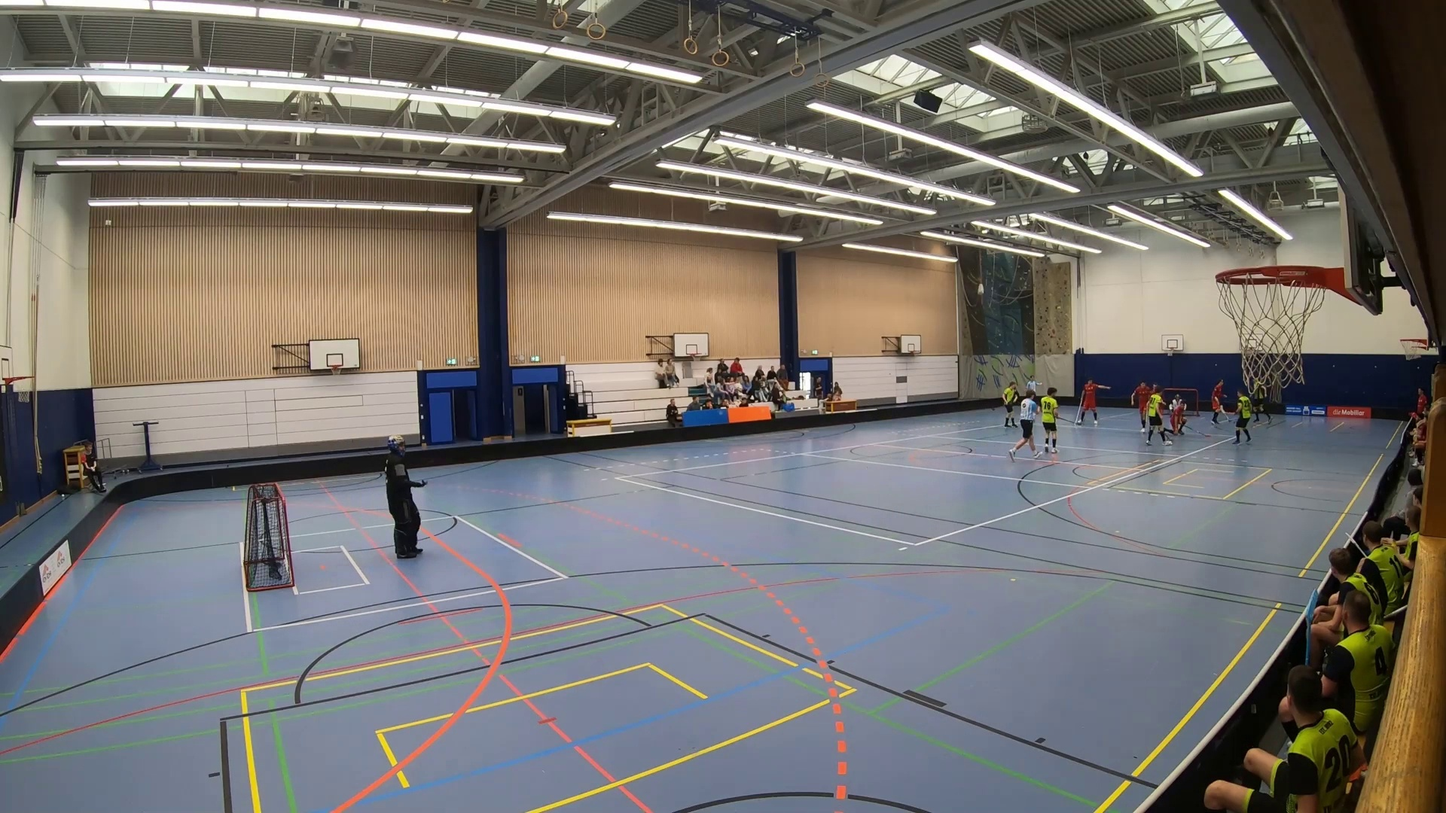Schiri: (1004, 389, 1043, 461), (1024, 371, 1040, 397)
goalkeeper: (368, 426, 454, 587), (1171, 392, 1187, 415)
player: (1038, 384, 1079, 463), (1065, 374, 1112, 432), (1139, 384, 1167, 451), (1166, 399, 1207, 441), (1231, 387, 1255, 446), (998, 377, 1023, 431), (1251, 372, 1275, 426), (1128, 377, 1150, 434), (1208, 373, 1230, 427), (1151, 382, 1163, 417)
